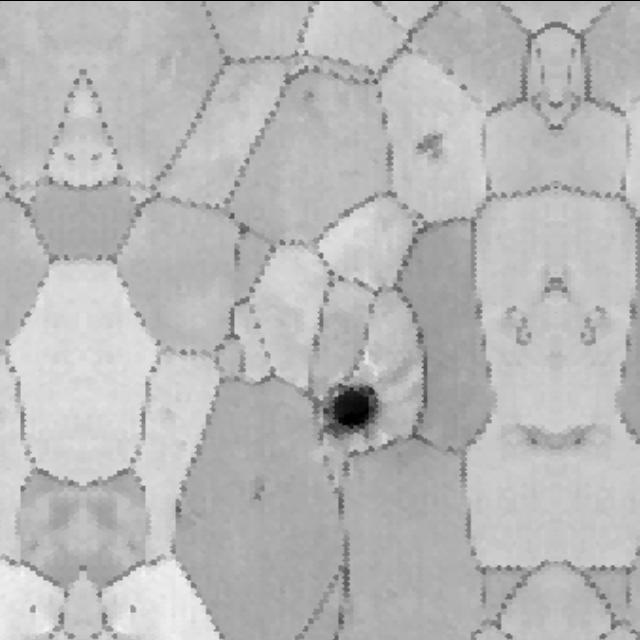good_void: (324, 372, 385, 438), (498, 297, 539, 352), (575, 297, 616, 352), (514, 418, 557, 461), (557, 418, 600, 461), (416, 131, 447, 166), (248, 477, 273, 513), (539, 264, 557, 306), (557, 264, 575, 306), (230, 238, 248, 272), (299, 88, 320, 104), (88, 151, 106, 164), (61, 151, 79, 164), (127, 602, 140, 616), (27, 602, 40, 616)
